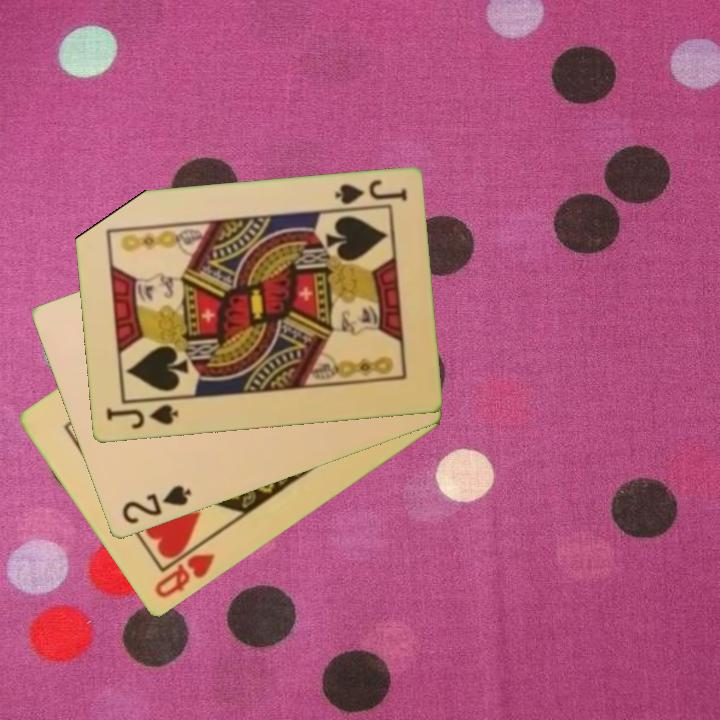2s: (118, 482, 194, 528)
Js: (102, 401, 181, 433), (330, 177, 410, 208)
Qh: (151, 550, 218, 602)
